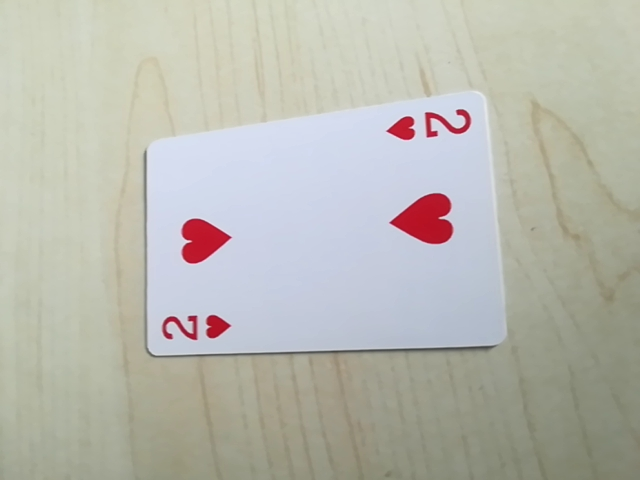hx 2: (383, 101, 479, 150), (155, 306, 237, 352)
